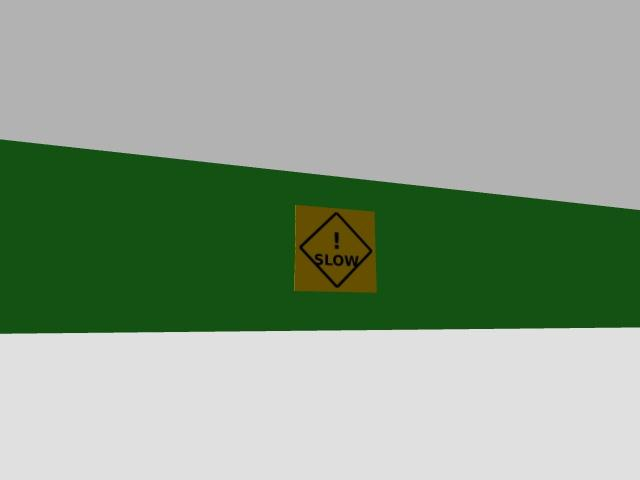slow: (294, 206, 376, 292)
